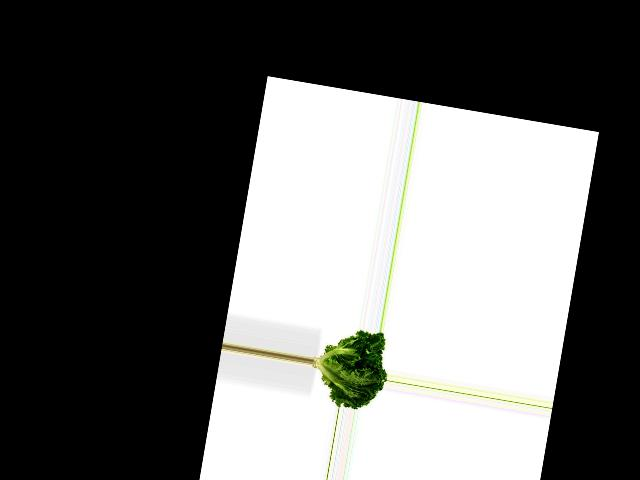lettuce: (306, 322, 393, 413)
